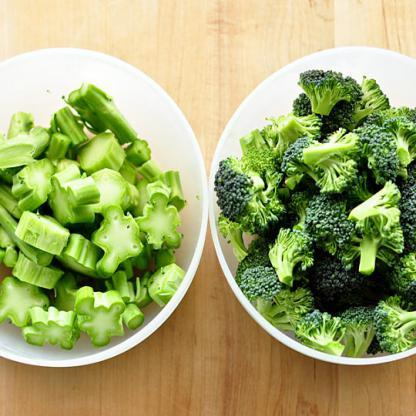broccoli: (214, 71, 415, 360)
